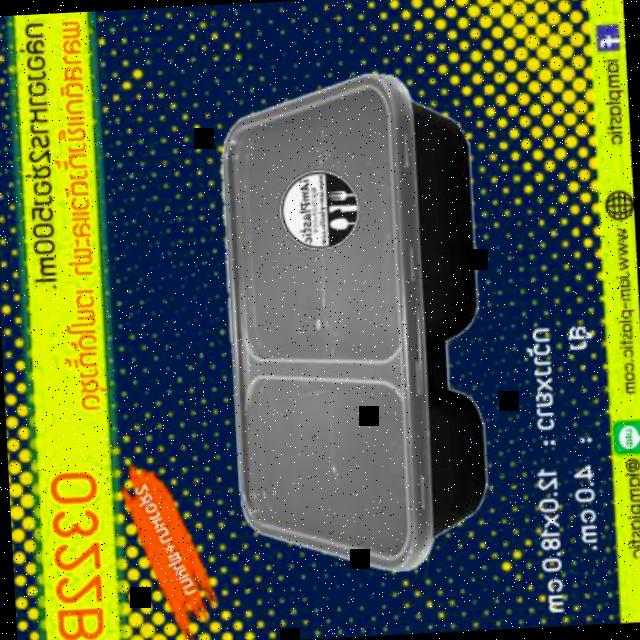plastic_box: (212, 70, 492, 578)
